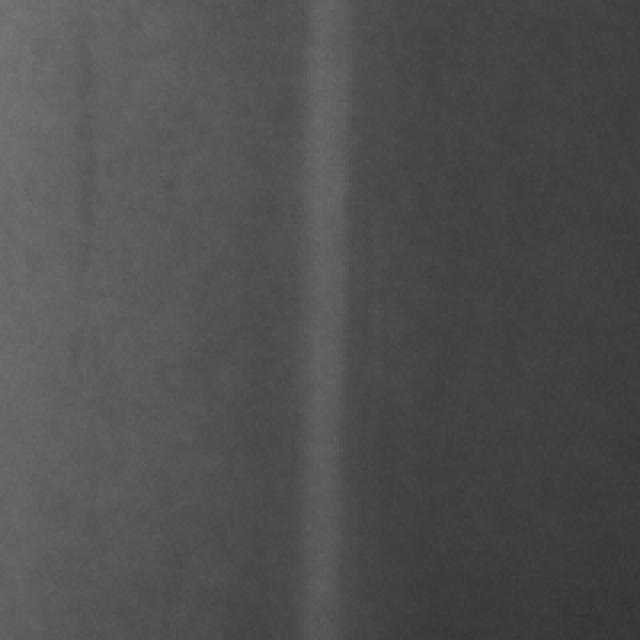scratches: (292, 0, 354, 635)
